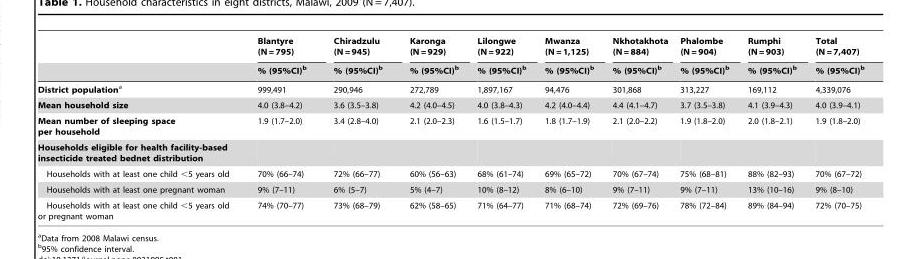table: (38, 36, 864, 220)
table column: (38, 36, 243, 220), (243, 36, 320, 220), (320, 36, 396, 220), (396, 36, 468, 220), (603, 36, 674, 220), (535, 36, 603, 220), (738, 36, 806, 220), (468, 36, 535, 220), (674, 36, 738, 220), (806, 36, 864, 220)
table column header: (38, 36, 864, 79)
table projected row header: (38, 139, 864, 165)
table row: (38, 112, 864, 139), (38, 139, 864, 165), (38, 36, 864, 60), (38, 197, 864, 220), (38, 60, 864, 79), (38, 79, 864, 97), (38, 165, 864, 181), (38, 181, 864, 197), (38, 97, 864, 112)
table spanning cell: (243, 36, 320, 79), (320, 36, 396, 79), (396, 36, 468, 79), (603, 36, 674, 79), (535, 36, 603, 79), (738, 36, 806, 79), (468, 36, 535, 79), (674, 36, 738, 79), (806, 36, 864, 79)
